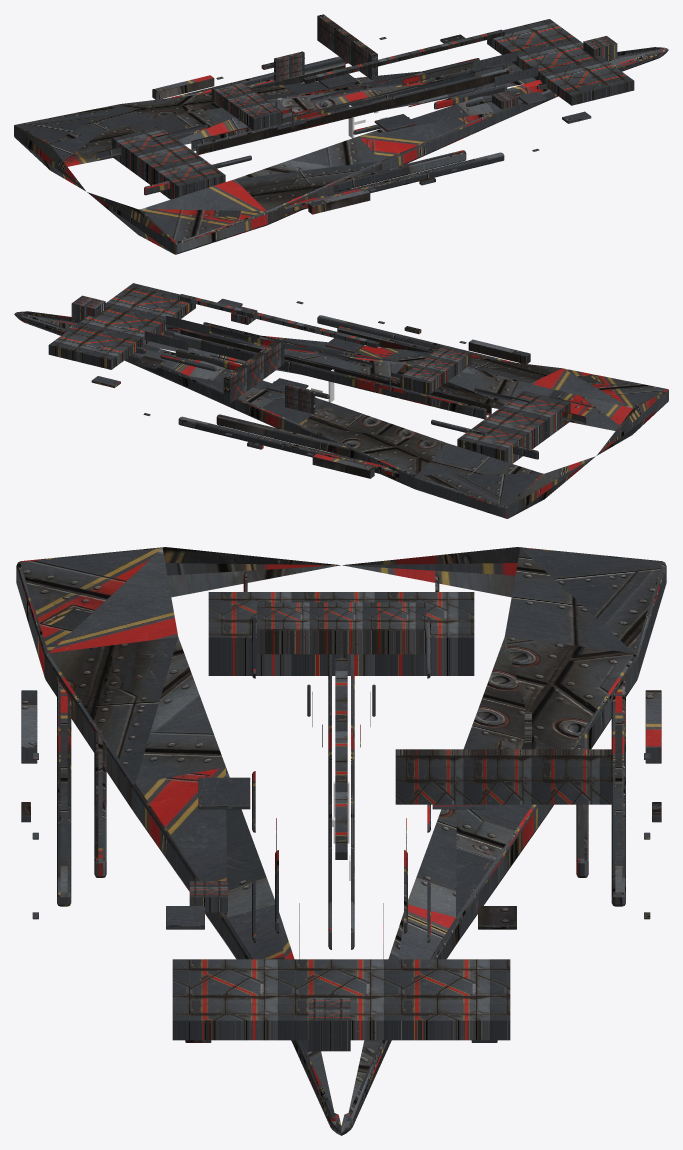
Rendered from hull_interceptor.glb.
3 views of the same model, one above another, from view 1: azimuth 30°, elevation 25°; view 2: azimuth 150°, elevation 25°; view 3: azimuth 270°, elevation 25° (orthographic). The views are drawn at different scales.
Visible parts, largest first — view 1: LOD0_HULL_INTERCEPTOR_MAIN, DET_heat_scorch, DET_afterburner_soot, DET_reactor_vent, DET_wing_root_rib, DET_sodium_stripe, DET_pursuit_weld, DET_sensor_nose, DET_hardpoint_collar; view 2: LOD0_HULL_INTERCEPTOR_MAIN, DET_heat_scorch, DET_afterburner_soot, DET_reactor_vent, DET_wing_root_rib, DET_sodium_stripe, DET_pursuit_weld, DET_sensor_nose; view 3: LOD0_HULL_INTERCEPTOR_MAIN, DET_heat_scorch, DET_afterburner_soot, DET_wing_root_rib, DET_reactor_vent, DET_sodium_stripe, DET_sensor_nose, DET_hardpoint_collar.
Part boxes in pixels (x1,y1,x2,y2): LOD0_HULL_INTERCEPTOR_MAIN: [14, 34, 668, 254]; DET_heat_scorch: [487, 19, 634, 105]; DET_afterburner_soot: [112, 126, 225, 199]; DET_reactor_vent: [211, 81, 282, 130]; DET_wing_root_rib: [317, 14, 377, 79]; DET_sodium_stripe: [303, 29, 504, 83]; DET_pursuit_weld: [274, 51, 304, 81]; DET_sensor_nose: [583, 36, 617, 60]; DET_hardpoint_collar: [492, 90, 518, 109]; LOD0_HULL_INTERCEPTOR_MAIN: [14, 298, 668, 518]; DET_heat_scorch: [48, 283, 195, 369]; DET_afterburner_soot: [457, 391, 570, 463]; DET_reactor_vent: [400, 345, 471, 394]; DET_wing_root_rib: [223, 338, 284, 403]; DET_sodium_stripe: [178, 294, 379, 348]; DET_pursuit_weld: [285, 384, 315, 413]; DET_sensor_nose: [71, 295, 105, 320]; LOD0_HULL_INTERCEPTOR_MAIN: [16, 547, 666, 1135]; DET_heat_scorch: [172, 959, 510, 1040]; DET_afterburner_soot: [208, 592, 474, 675]; DET_wing_root_rib: [395, 749, 612, 804]; DET_reactor_vent: [257, 602, 425, 654]; DET_sodium_stripe: [335, 658, 347, 859]; DET_sensor_nose: [308, 997, 350, 1051]; DET_hardpoint_collar: [189, 881, 227, 912].
Bounding box in the file's own units: 11.15 × 1.35 × 5.39.
Materials: 3 (3 with a texture image).
